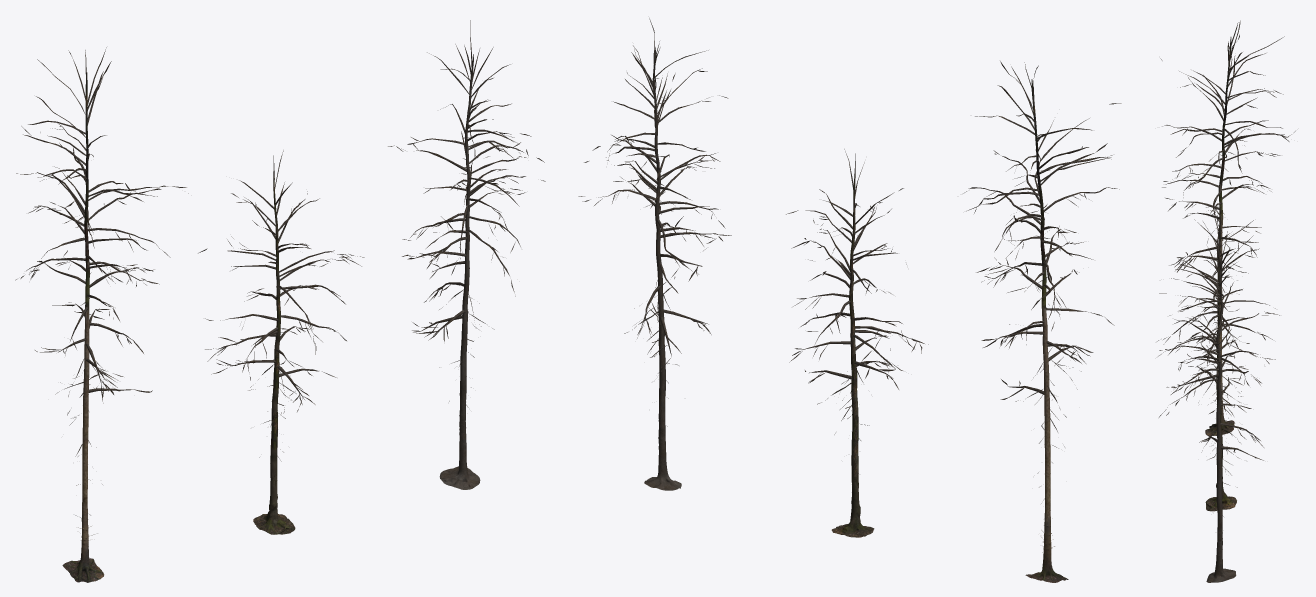
File: pine_tree_01_wood.glb
3 views of the same model, side by side, from view 1: azimuth 30°, elevation 25°; view 2: azimuth 150°, elevation 25°; view 3: azimuth 270°, elevation 25° (orthographic). The views are drawn at different scales.
Parts seen in each view (by area): view 1: pine_tree_01_a_LOD0, pine_tree_01_c_LOD0, pine_tree_01_b_LOD0; view 2: pine_tree_01_a_LOD0, pine_tree_01_c_LOD0, pine_tree_01_b_LOD0; view 3: pine_tree_01_a_LOD0, pine_tree_01_c_LOD0, pine_tree_01_b_LOD0.
Boxes of the visible parts, x1,y1,x2,y2 form: pine_tree_01_a_LOD0: (15, 47, 188, 582); pine_tree_01_c_LOD0: (388, 20, 545, 489); pine_tree_01_b_LOD0: (198, 150, 364, 534); pine_tree_01_a_LOD0: (963, 61, 1121, 582); pine_tree_01_c_LOD0: (578, 18, 731, 490); pine_tree_01_b_LOD0: (786, 149, 928, 537); pine_tree_01_a_LOD0: (1160, 20, 1295, 436); pine_tree_01_c_LOD0: (1158, 217, 1279, 582); pine_tree_01_b_LOD0: (1157, 204, 1272, 511).
Bounding box in the file's own units: 18.8 × 18.33 × 5.94.
Materials: 5 (5 with a texture image).
